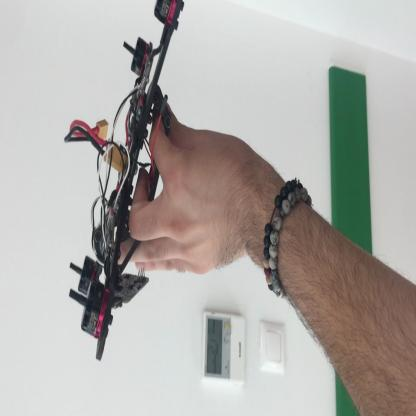drone: (70, 1, 188, 369)
